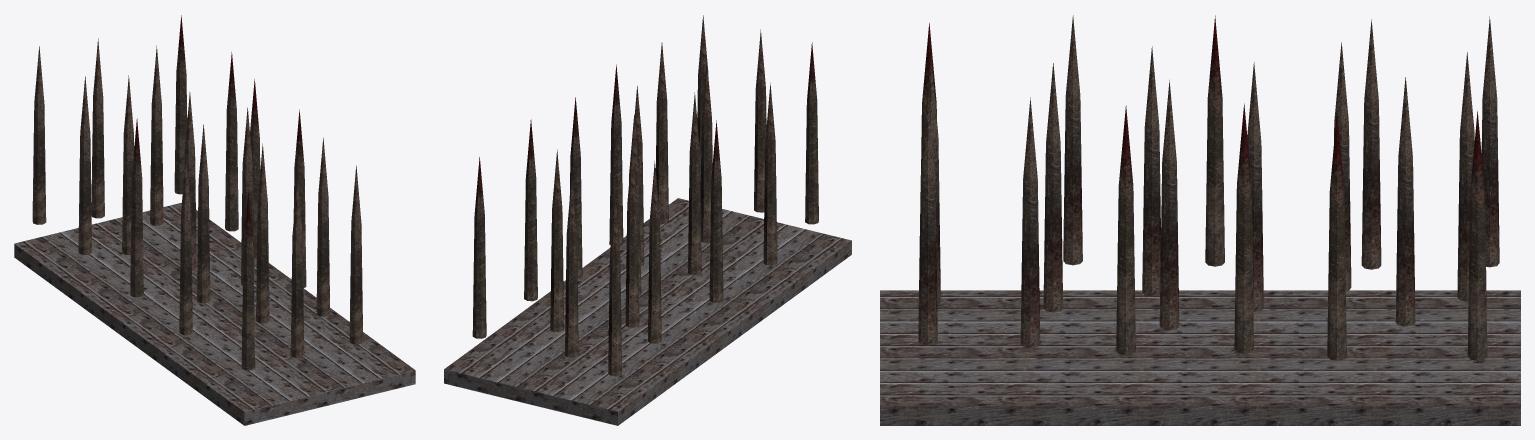
Rendered from spiketrap.fbx.
3 views of the same model, side by side, from view 1: azimuth 30°, elevation 25°; view 2: azimuth 150°, elevation 25°; view 3: azimuth 270°, elevation 25° (orthographic). The views are drawn at different scales.
Parts seen in each view (by area): view 1: pCube1, pCylinder20; view 2: pCube1, pCylinder20; view 3: pCube1, pCylinder20.
Boxes of the visible parts, x1,y1,x2,y2 form: pCube1: (14, 202, 415, 425); pCylinder20: (32, 15, 363, 370); pCube1: (444, 198, 851, 425); pCylinder20: (472, 15, 818, 376); pCube1: (880, 290, 1520, 425); pCylinder20: (918, 15, 1499, 360).
Size of the model in its own units: 3.46 by 4.2 by 8.05.
